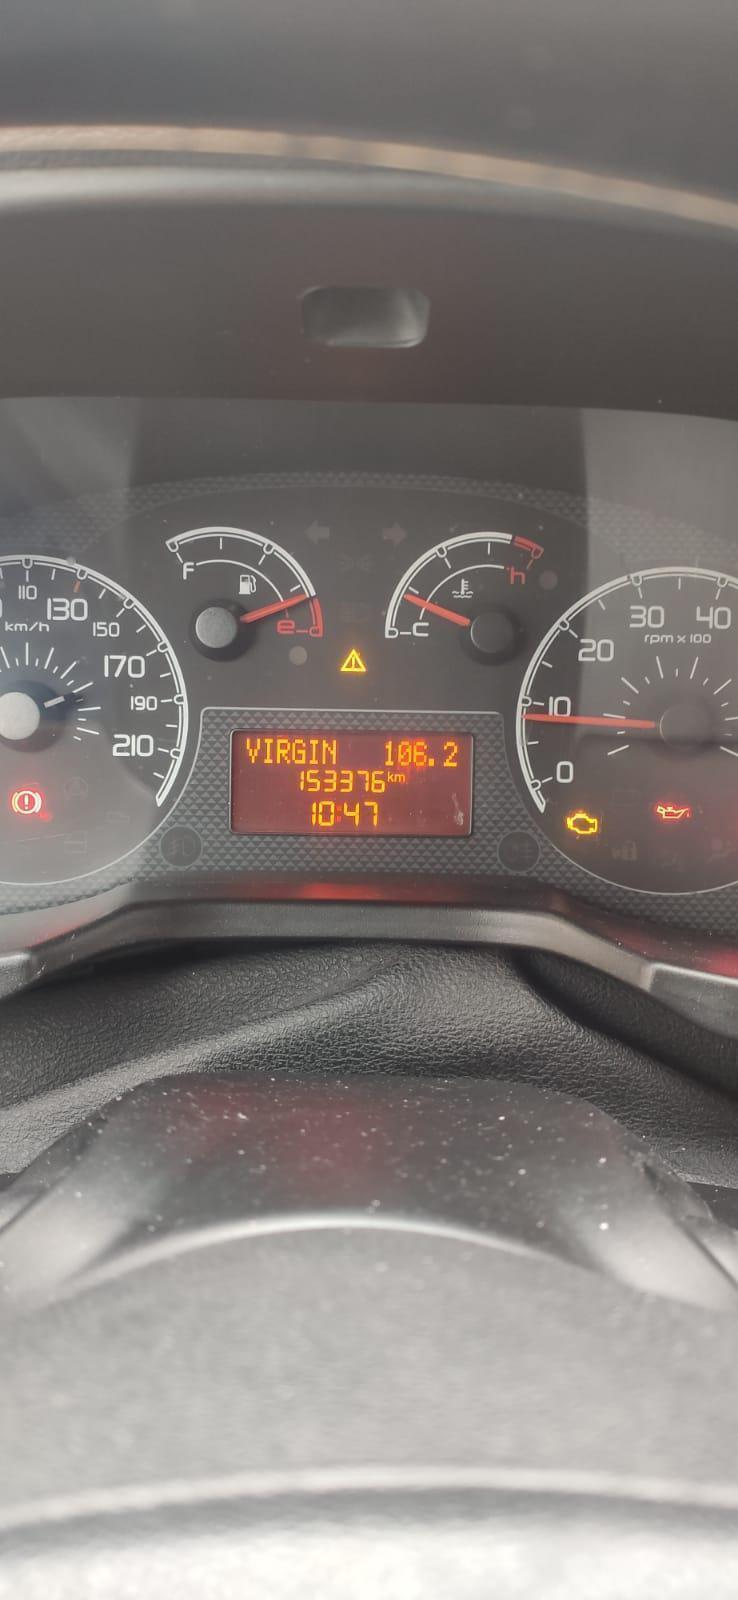,: (428, 755, 435, 767)
0: (317, 799, 334, 827), (397, 740, 411, 766)
1: (384, 738, 393, 767), (309, 799, 316, 827), (298, 768, 305, 792)
2: (442, 739, 459, 769)
3: (339, 767, 353, 792), (323, 768, 336, 793)
4: (343, 800, 360, 826)
5: (306, 768, 319, 792)
6: (412, 739, 427, 767), (371, 769, 385, 794)
7: (363, 799, 379, 827), (356, 768, 370, 793)
X: (321, 738, 338, 766), (245, 735, 261, 763), (275, 736, 290, 765), (292, 738, 307, 765), (308, 736, 318, 766), (263, 736, 272, 765), (335, 803, 342, 824), (394, 772, 406, 782), (386, 769, 393, 782)
odometer: (227, 720, 479, 846)
